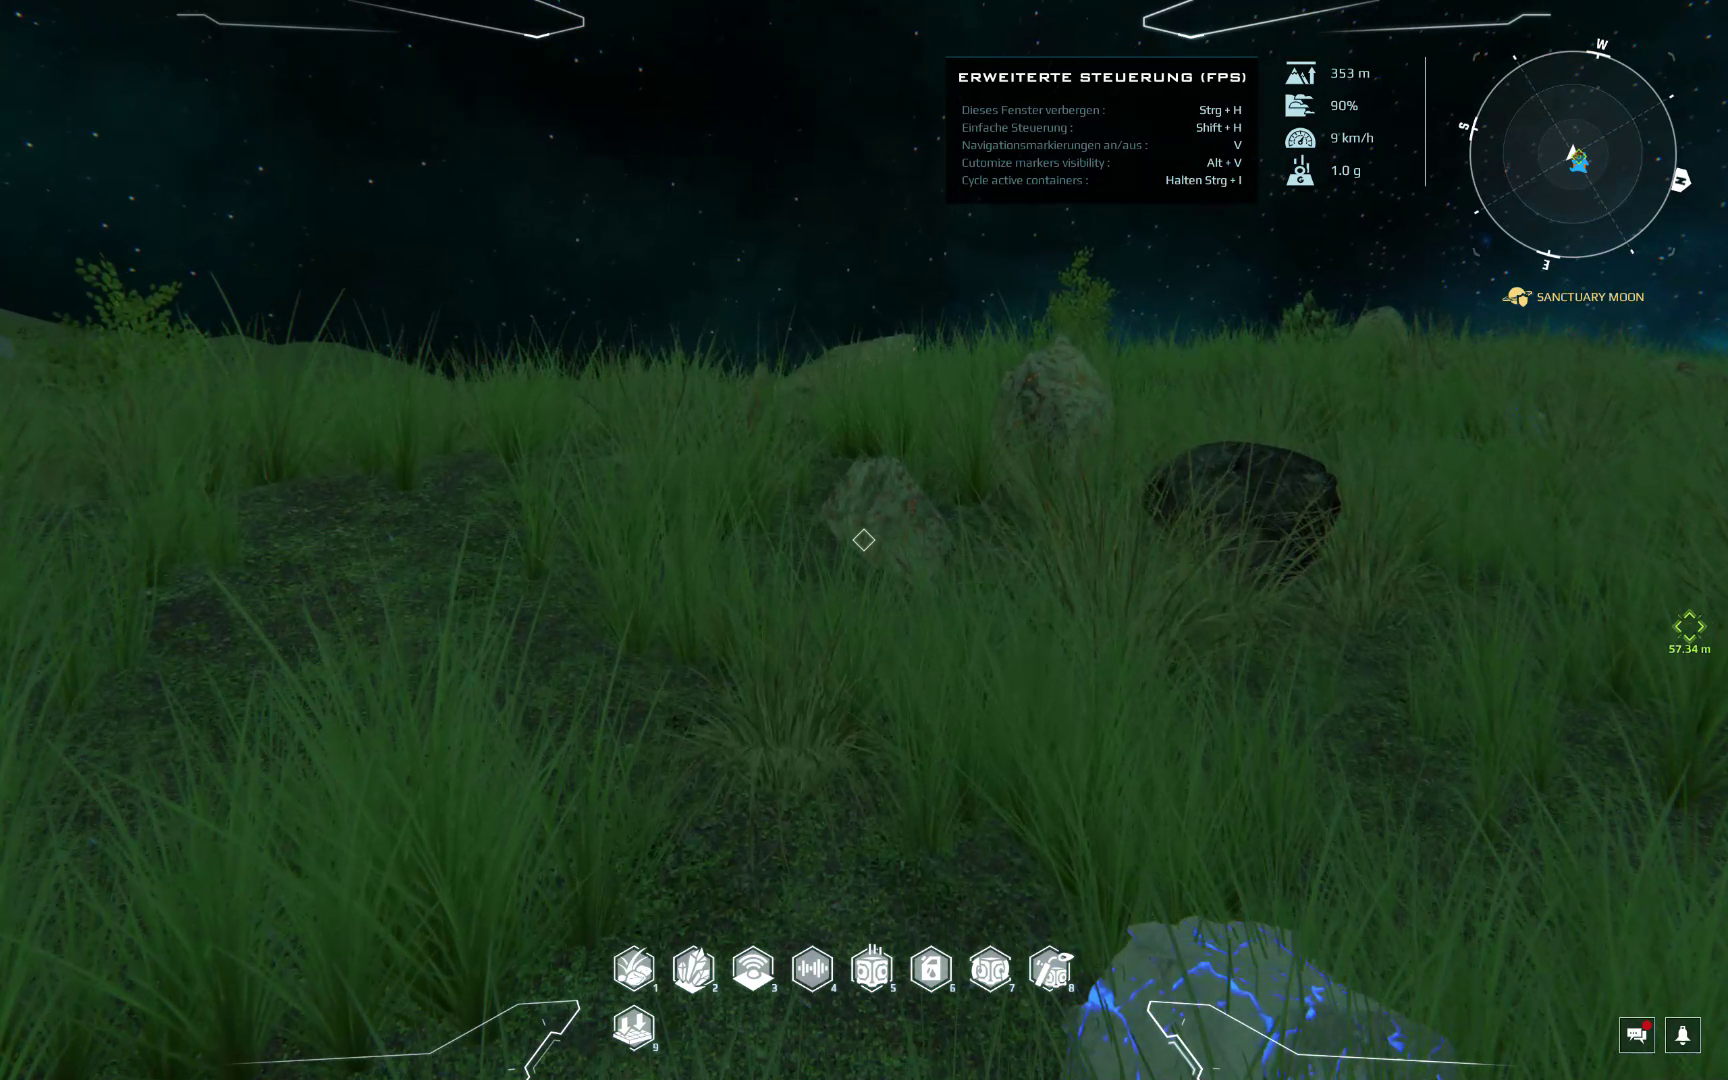Ore: (1069, 913, 1480, 1080), (1141, 440, 1336, 575), (987, 338, 1115, 523), (816, 455, 949, 589), (781, 332, 918, 393)
